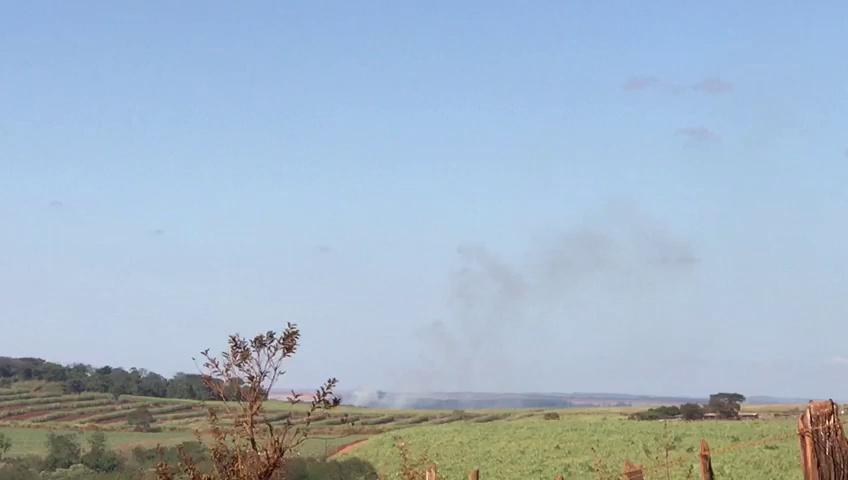smoke: (450, 256, 512, 300)
